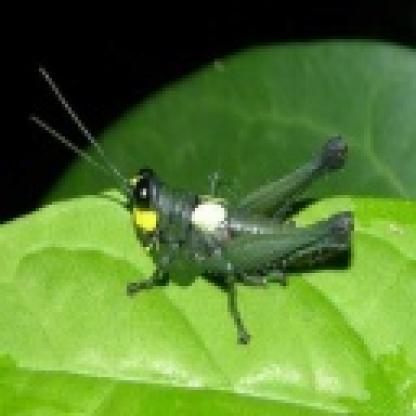grasshopper: (61, 110, 359, 333)
